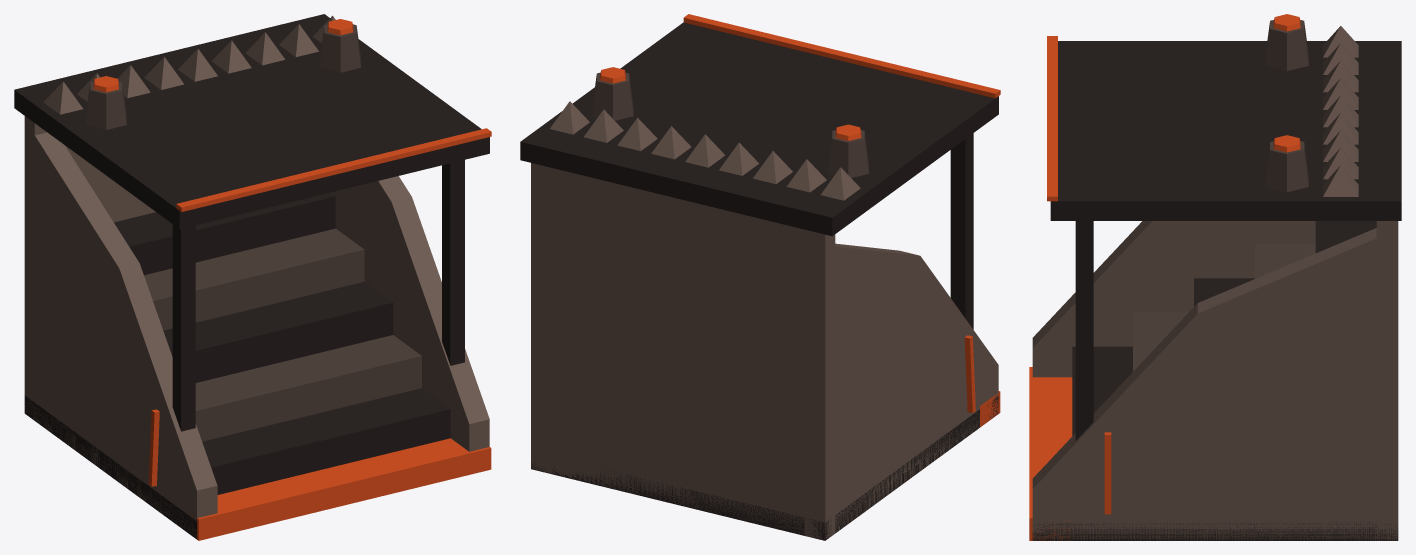
File: stand.glb
3 views of the same model, side by side, from view 1: azimuth 30°, elevation 25°; view 2: azimuth 150°, elevation 25°; view 3: azimuth 270°, elevation 25° (orthographic). The views are drawn at different scales.
Parts seen in each view (by area): view 1: volcano-stand; view 2: volcano-stand; view 3: volcano-stand.
Part boxes in pixels (x1,y1,x2,y2): volcano-stand: (14, 14, 491, 540); volcano-stand: (520, 14, 1000, 540); volcano-stand: (1029, 14, 1401, 540).
Bounding box in the file's own units: 1.08 × 1.18 × 1.04.
